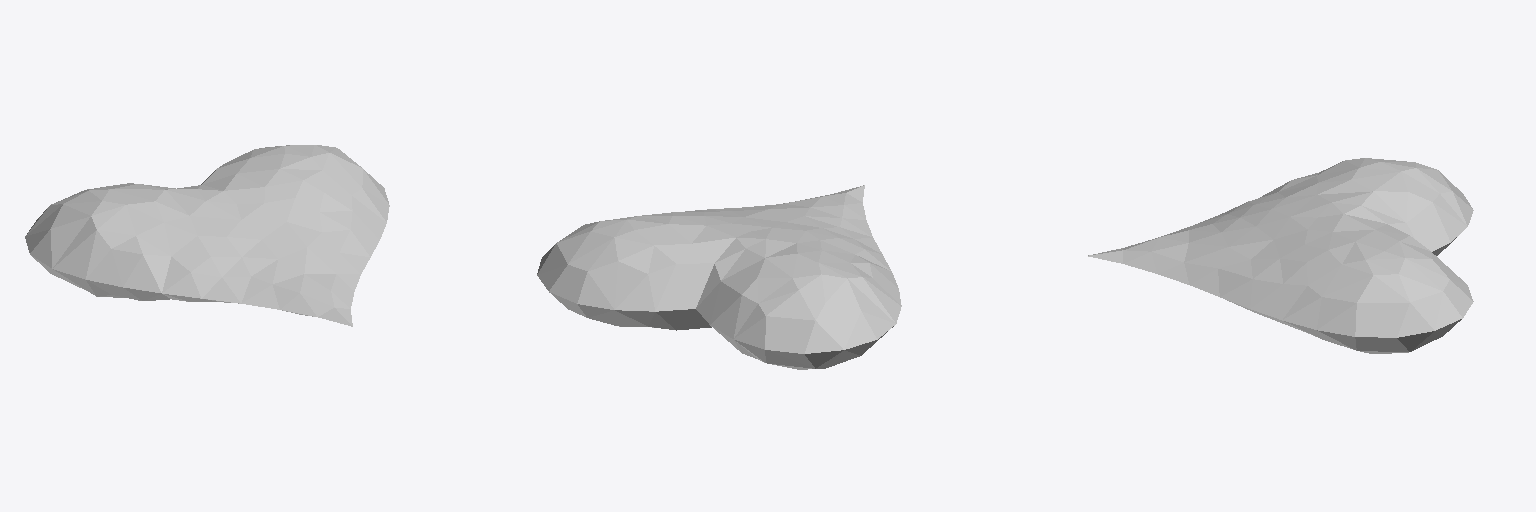
File: heart_lp.obj
The picture shows the model from 3 angles: view 1: azimuth 30°, elevation 25°; view 2: azimuth 150°, elevation 25°; view 3: azimuth 270°, elevation 25°; orthographic projection.
Visible parts, largest first — view 1: Line002; view 2: Line002; view 3: Line002.
Boxes of the visible parts, x1=… form: Line002: x1=25, y1=145, x2=389, y2=326; Line002: x1=537, y1=185, x2=901, y2=369; Line002: x1=1088, y1=158, x2=1473, y2=353.
Size of the model in its own units: 3 by 0.76 by 3.